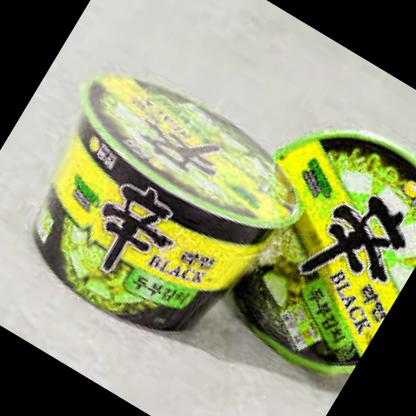Ramen: (0, 51, 317, 370), (178, 85, 416, 395)
